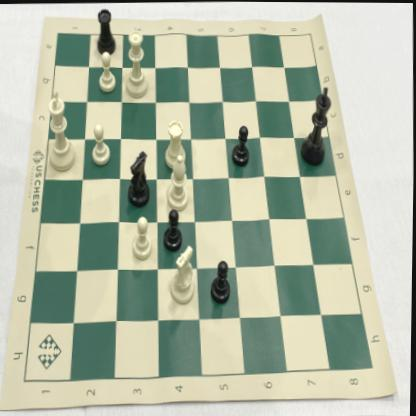black-king: (298, 81, 337, 167)
black-knight: (125, 145, 153, 211)
black-pawn: (208, 254, 235, 305), (228, 120, 253, 168), (161, 205, 185, 252)
black-rook: (95, 2, 117, 58)
white-bishop: (163, 153, 195, 213)
white-king: (43, 86, 81, 176)
white-knight: (167, 241, 199, 309)
white-pawn: (130, 214, 154, 264), (94, 48, 119, 95), (89, 122, 114, 168)
white-queen: (121, 25, 152, 100)
white-rook: (163, 116, 188, 173)
